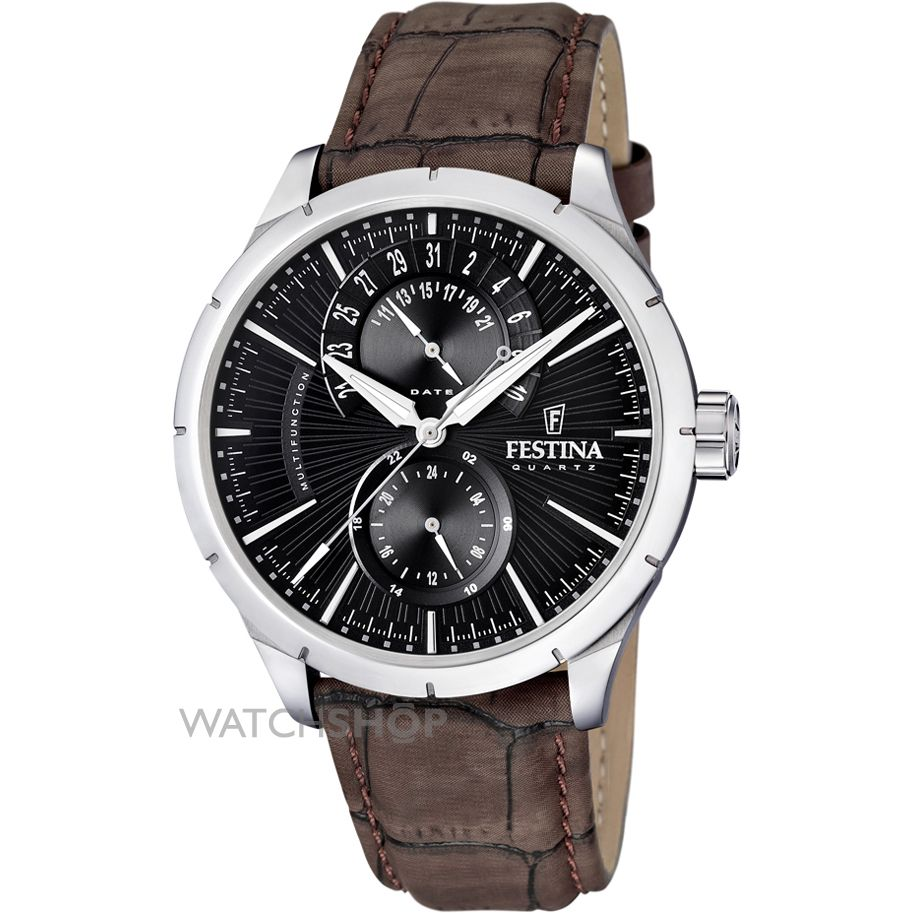clock: (208, 205, 653, 657)
